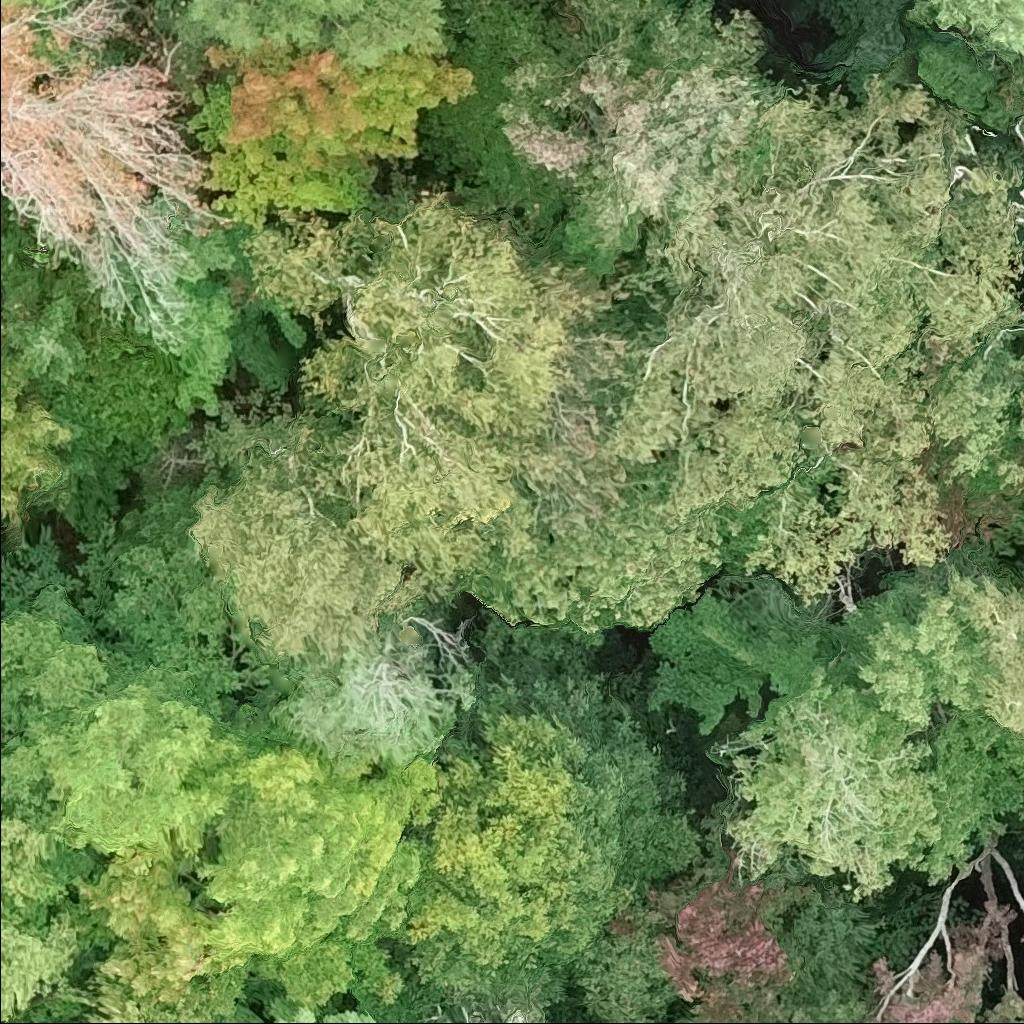crown: (604, 72, 1023, 609), (236, 184, 587, 600), (399, 608, 702, 1009), (421, 0, 790, 291), (708, 561, 1023, 900), (0, 515, 287, 886), (460, 331, 726, 641), (196, 739, 440, 1018), (183, 402, 435, 666), (183, 37, 487, 235), (0, 0, 206, 253), (773, 900, 1023, 1023), (652, 855, 808, 1023), (66, 846, 206, 1006), (0, 800, 93, 1022), (184, 0, 448, 70), (941, 546, 1023, 740), (0, 372, 81, 527), (907, 0, 1023, 99), (81, 973, 225, 1023), (0, 302, 84, 384), (219, 996, 378, 1023), (983, 282, 1023, 352), (456, 999, 485, 1023), (1009, 190, 1023, 228), (503, 1004, 529, 1023), (18, 0, 59, 8), (1019, 126, 1023, 150), (1020, 932, 1023, 944), (0, 1022, 3, 1023)
